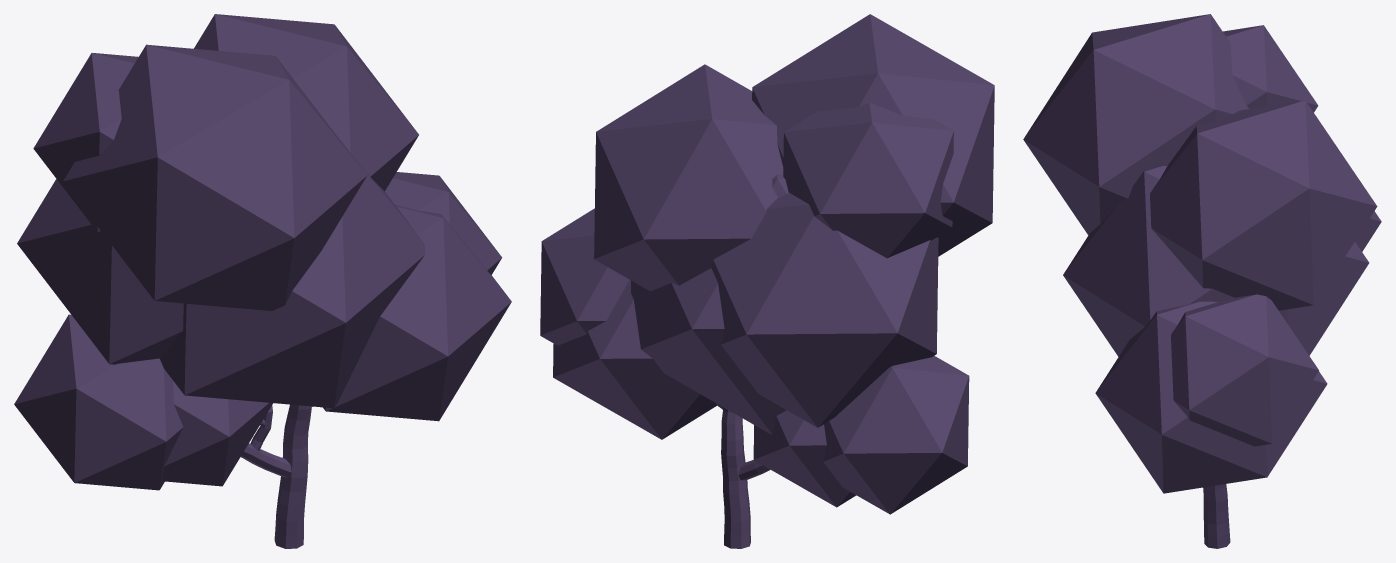
File: tree.fbx
3 views of the same model, side by side, from view 1: azimuth 30°, elevation 25°; view 2: azimuth 150°, elevation 25°; view 3: azimuth 270°, elevation 25° (orthographic). The views are drawn at different scales.
Parts seen in each view (by area): view 1: tree 2; view 2: tree 2; view 3: tree 2.
Boxes of the visible parts, x1,y1,x2,y2 form: tree 2: [14, 14, 511, 548]; tree 2: [540, 14, 994, 548]; tree 2: [1023, 14, 1381, 548].
Bounding box in the file's own units: 379 × 437 × 304.
